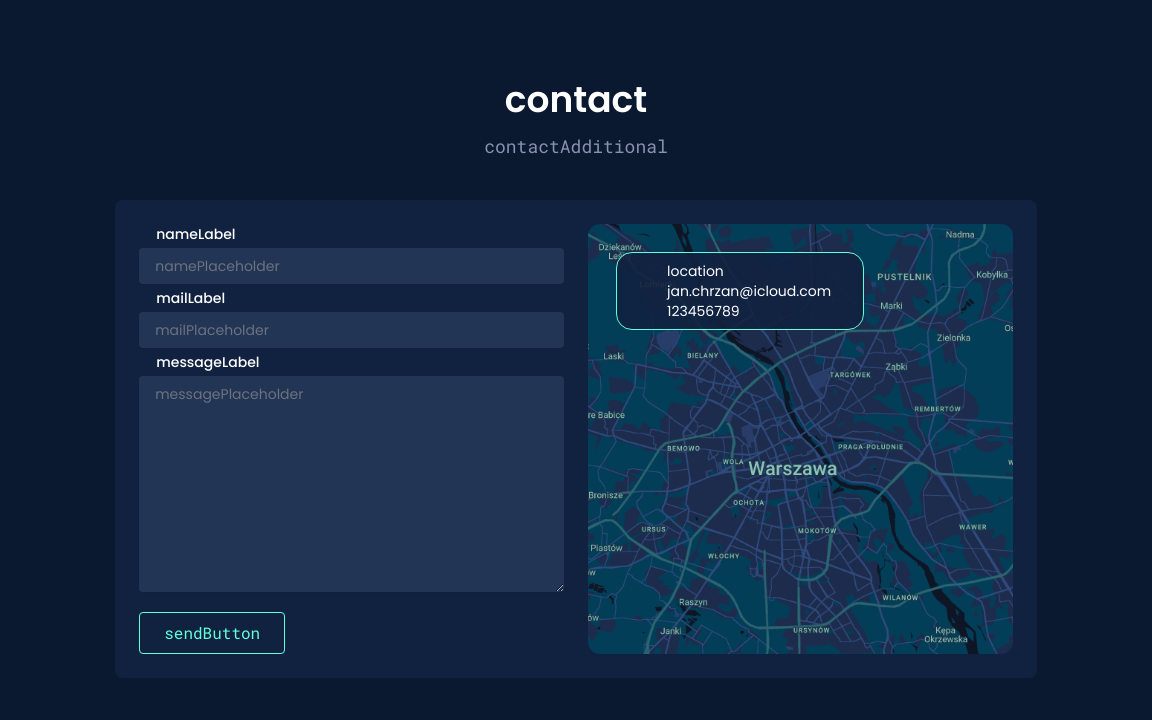
Contact › Displays error message when server is down
Type "test" into the field with placeholder "namePlaceholder" at coordinates (352, 266), box x1=139 y1=248 x2=564 y2=284
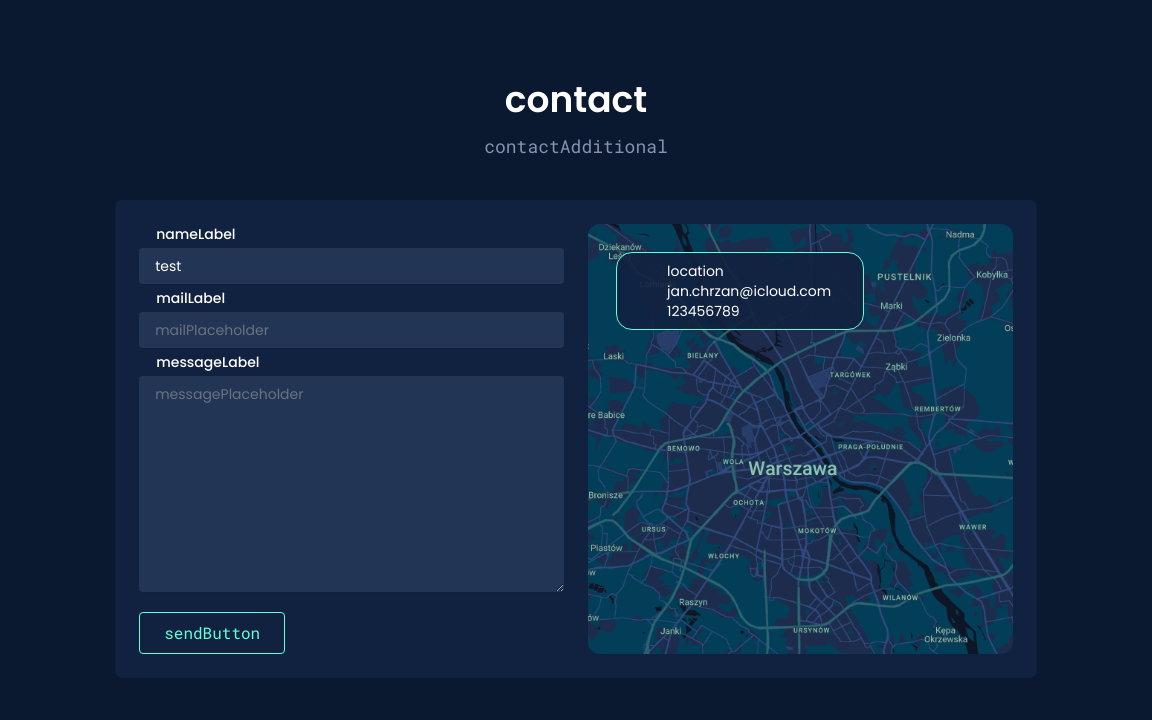
Type "test@example.com" into the field with placeholder "mailPlaceholder" at coordinates (352, 330), box x1=139 y1=312 x2=564 y2=348
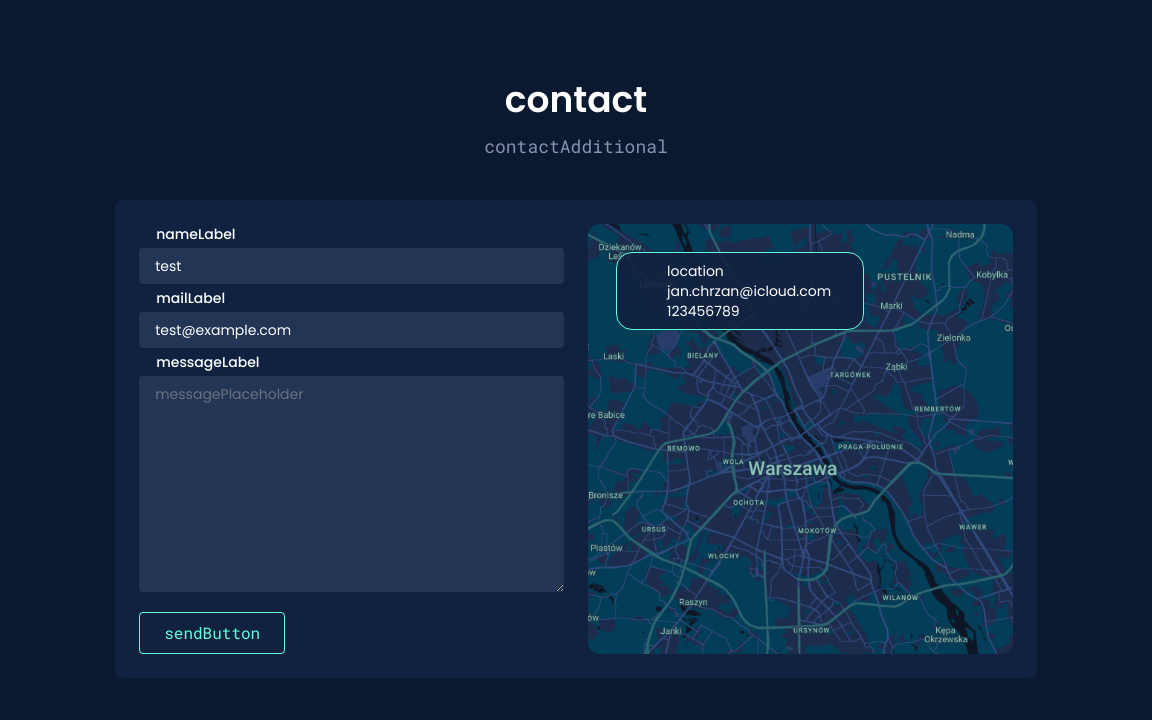
Type "test" into the text box with placeholder "messagePlaceholder" at coordinates (352, 484), box x1=139 y1=376 x2=564 y2=592
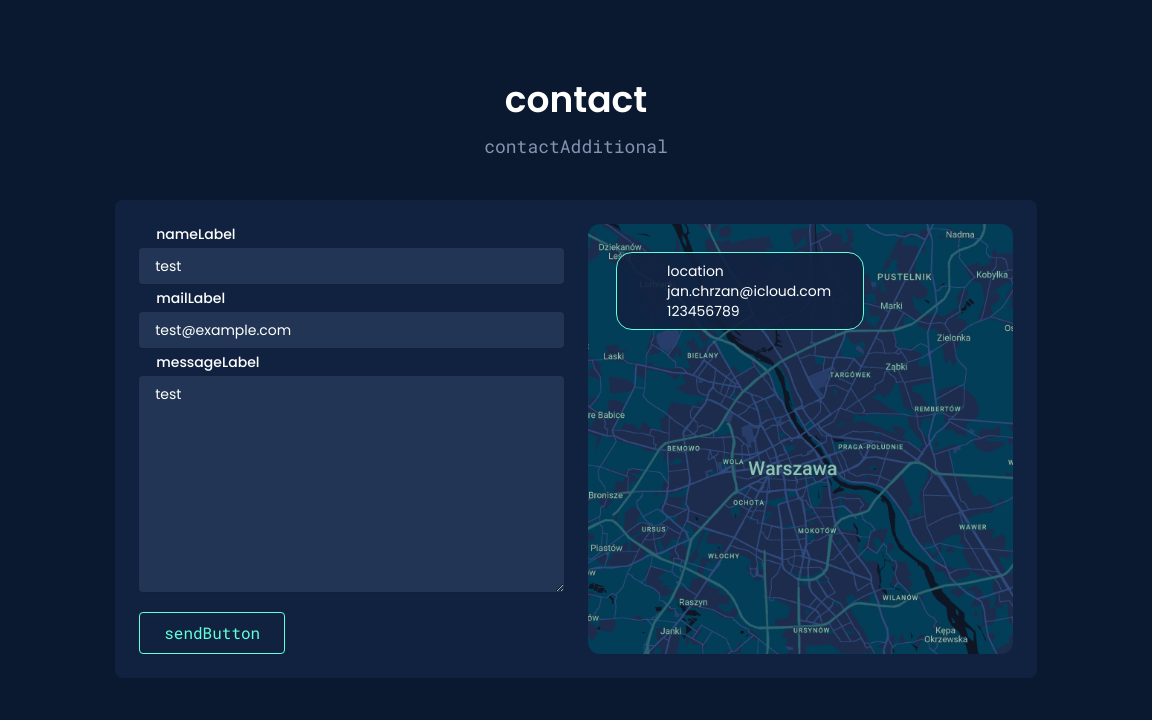
Click the button "sendButton" at coordinates (212, 633), box x1=139 y1=612 x2=285 y2=654
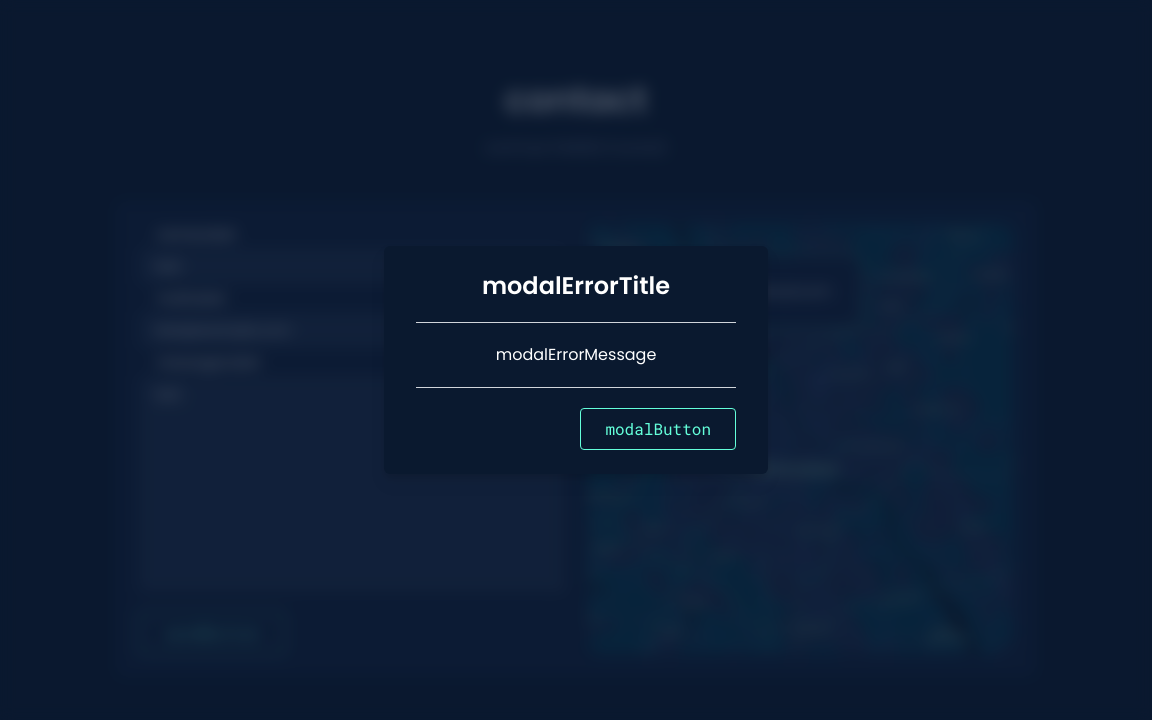
Now the heading "modalErrorTitle" is shown, box x1=482 y1=269 x2=670 y2=302
Now the text "modalErrorMessage" is shown, box x1=496 y1=343 x2=656 y2=366
